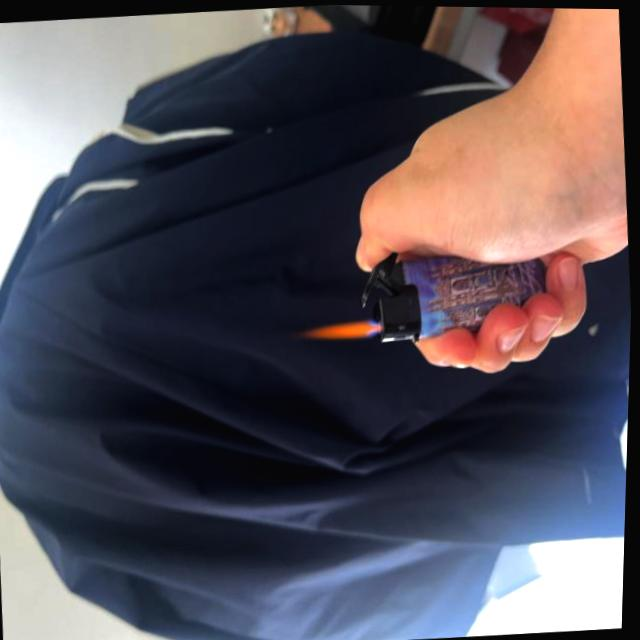Fire: (304, 312, 382, 347)
